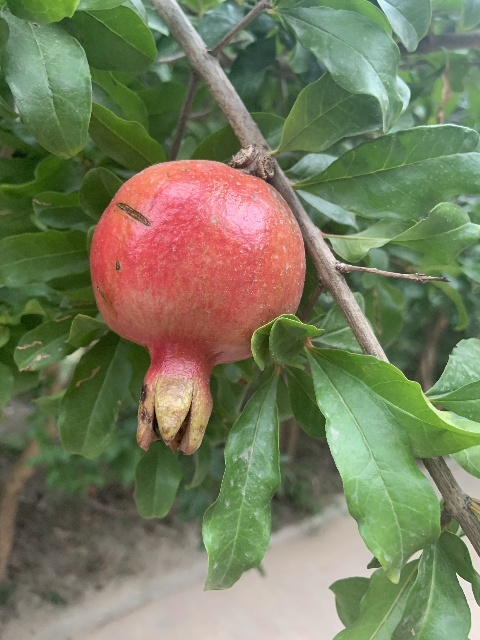ripe: (89, 159, 304, 453)
